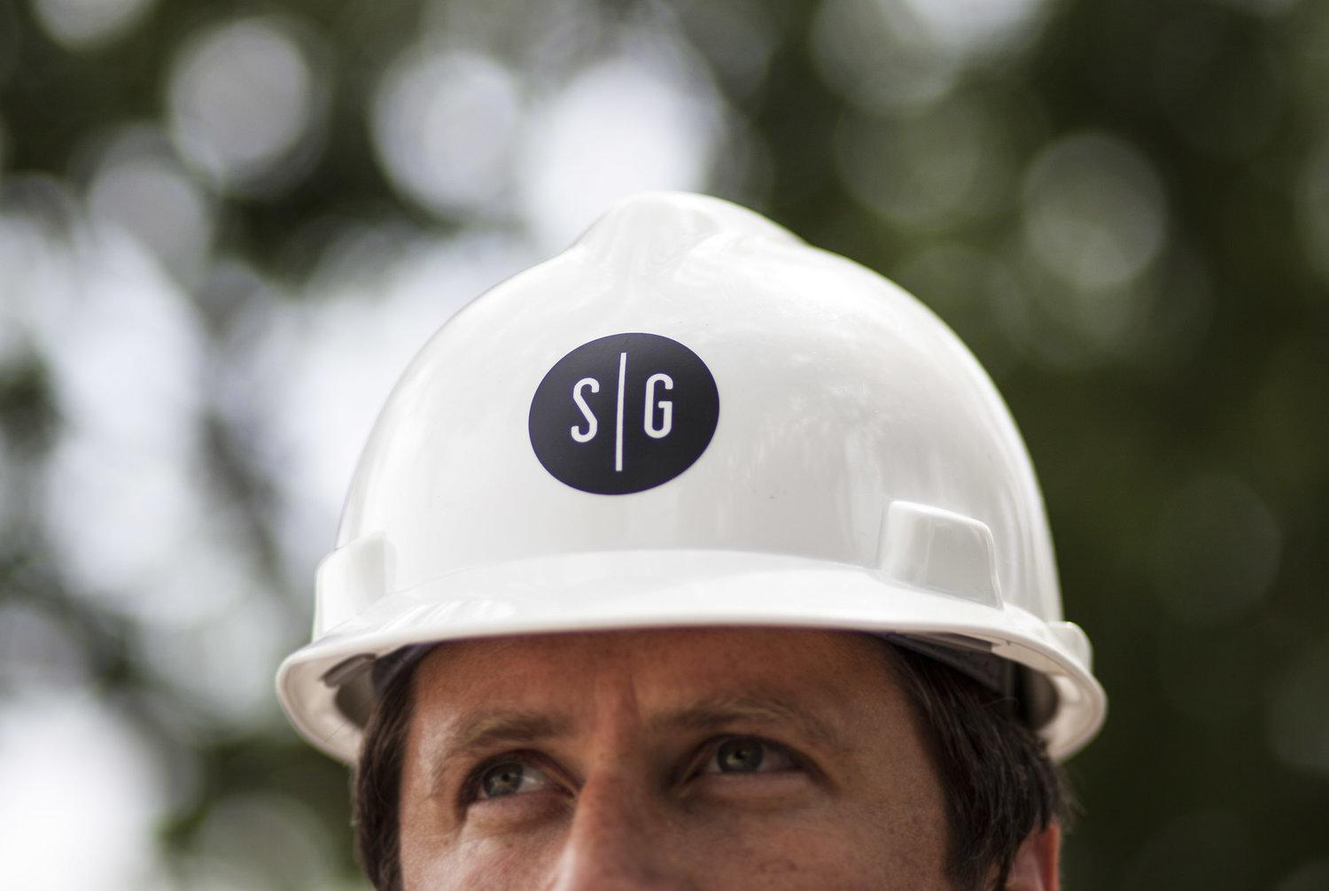helmet: (284, 180, 1100, 670)
